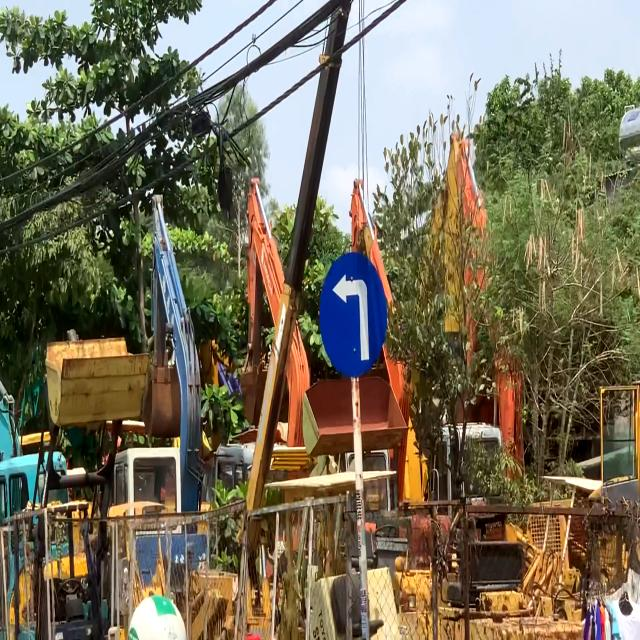R.301e: (320, 254, 389, 376)
